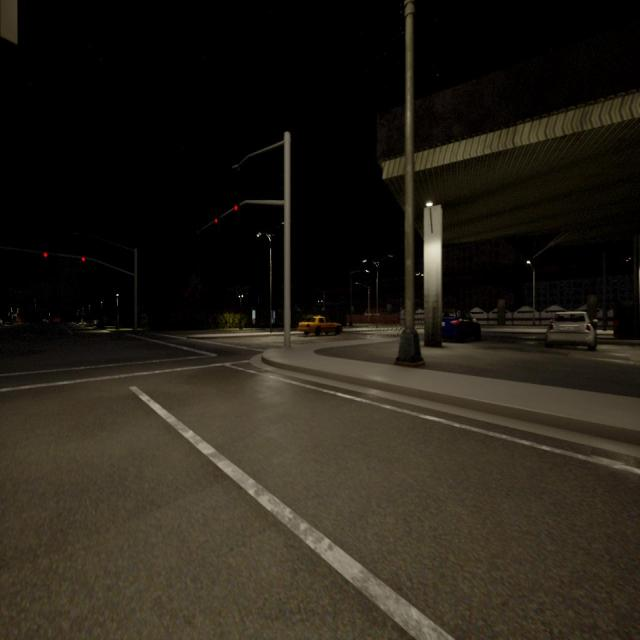Vehicle: (547, 312, 595, 351), (442, 309, 481, 341), (298, 317, 342, 335)
traffic_light: (234, 205, 238, 211), (214, 218, 218, 223), (82, 256, 85, 262), (44, 252, 48, 256)
